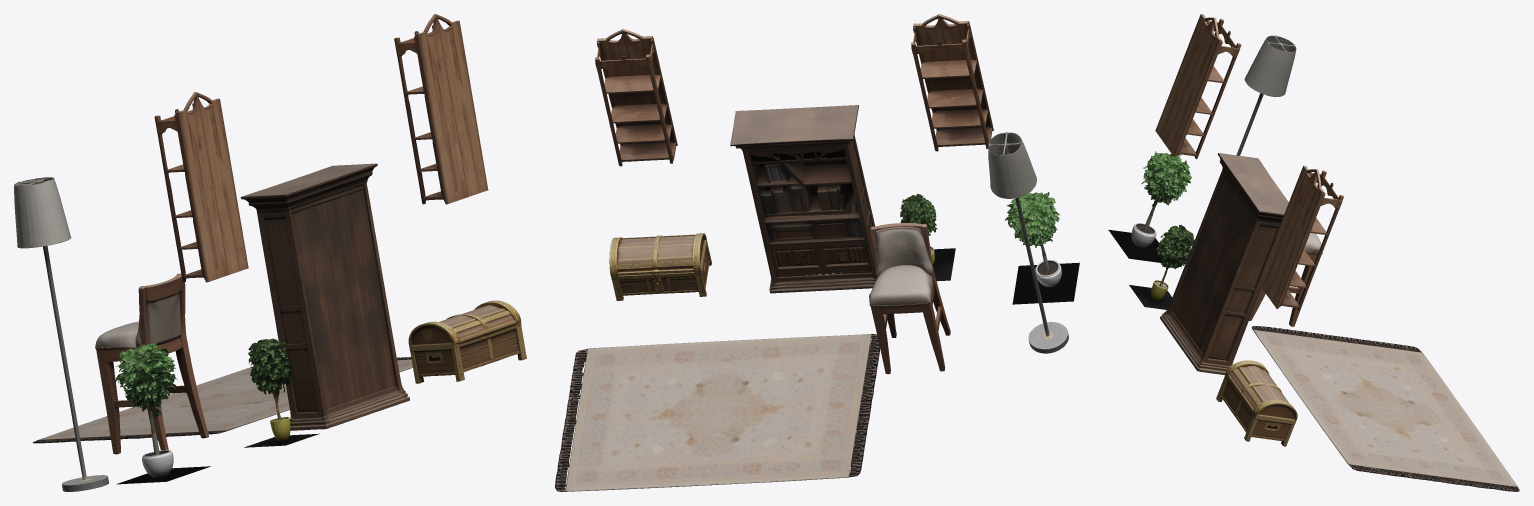
The model's file is gallery-sage-325c43fb-lowres.glb.
The picture shows the model from 3 angles, left to right: view 1: azimuth 30°, elevation 25°; view 2: azimuth 150°, elevation 25°; view 3: azimuth 270°, elevation 25°; orthographic projection. The views are drawn at different scales.
Visible parts, largest first — view 1: instance_0, instance_6, instance_5, instance_7, instance_4, instance_8, instance_1, instance_3, instance_2; view 2: instance_4, instance_0, instance_6, instance_5, instance_7, instance_8, instance_3, instance_1, instance_2; view 3: instance_4, instance_0, instance_5, instance_6, instance_8, instance_3, instance_1, instance_2, instance_7.
Boxes of the visible parts, x1,y1,x2,y2 form: instance_0: (240,163,409,430); instance_6: (394,14,488,204); instance_5: (154,92,248,282); instance_7: (95,273,208,454); instance_4: (33,357,412,443); instance_8: (408,300,526,383); instance_1: (14,177,108,491); instance_3: (115,343,210,484); instance_2: (244,338,319,447); instance_4: (555,334,879,491); instance_0: (730,105,877,293); instance_6: (595,29,677,166); instance_5: (911,14,993,151); instance_7: (869,223,950,374); instance_8: (609,233,711,300); instance_3: (1005,192,1079,304); instance_1: (988,132,1068,353); instance_2: (900,193,955,281); instance_4: (1251,326,1519,491); instance_0: (1160,153,1288,374); instance_5: (1155,14,1241,158); instance_6: (1258,165,1343,310); instance_8: (1216,360,1297,446); instance_3: (1108,151,1191,262); instance_1: (1189,35,1296,250); instance_2: (1129,225,1194,309); instance_7: (1249,233,1322,326).
Bounding box in the file's own units: 2.06 × 1.9 × 1.88.
Materials: 9 (9 with a texture image).
